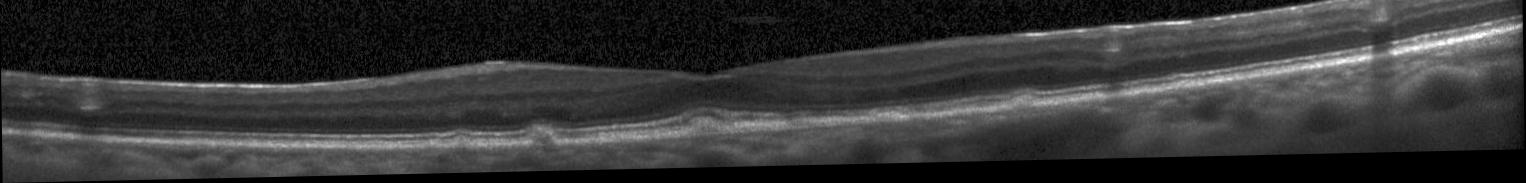retinal_drusen: (533, 134, 555, 151), (686, 130, 721, 140), (1010, 99, 1034, 112), (458, 139, 464, 150)
